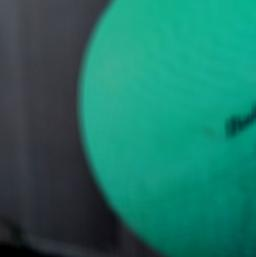algae: (73, 0, 256, 257)
